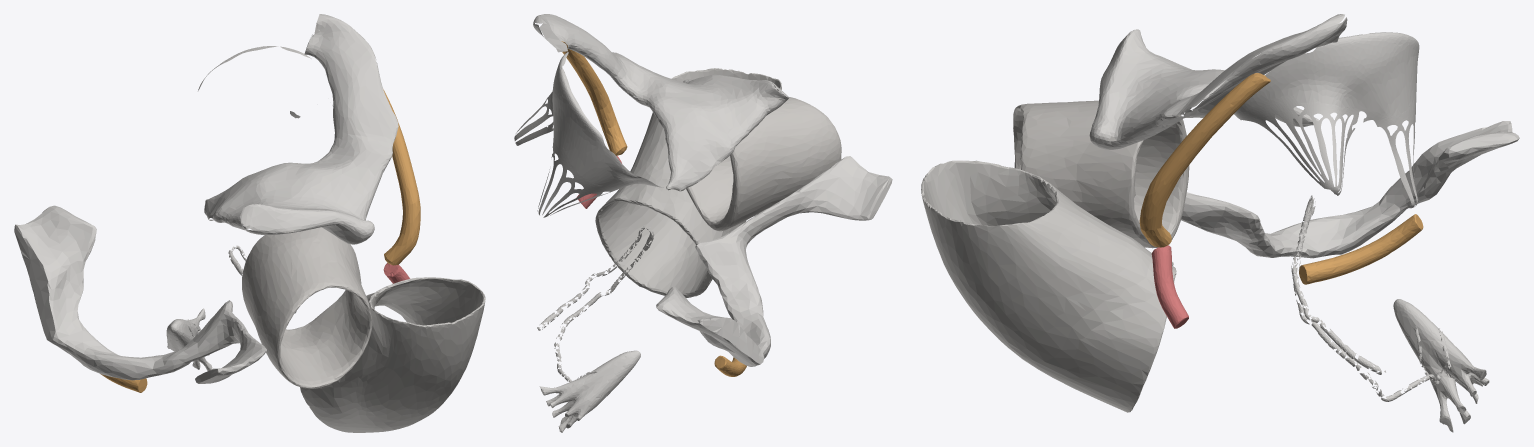
Rendered from heart_bp3d.glb.
3 renders of one model, left to right at view 1: azimuth 30°, elevation 25°; view 2: azimuth 150°, elevation 25°; view 3: azimuth 270°, elevation 25°, orthographic. The views are drawn at different scales.
Visible parts, largest first — view 1: myocardium, pulmonary_trunk, aorta, coronary_LCX; view 2: myocardium, pulmonary_trunk, aorta, coronary_LCX, coronary_RCA; view 3: myocardium, pulmonary_trunk, aorta, coronary_LCX, coronary_RCA, coronary_LAD.
Boxes of the visible parts, x1,y1,x2,y2 form: myocardium: [14, 14, 398, 383]; pulmonary_trunk: [300, 277, 485, 432]; aorta: [242, 227, 372, 388]; coronary_LCX: [383, 89, 420, 265]; myocardium: [514, 14, 892, 432]; pulmonary_trunk: [595, 68, 781, 298]; aorta: [686, 96, 841, 231]; coronary_LCX: [561, 41, 627, 155]; coronary_RCA: [714, 355, 746, 376]; myocardium: [1089, 14, 1519, 432]; pulmonary_trunk: [921, 160, 1176, 412]; aorta: [1013, 100, 1189, 248]; coronary_LCX: [1139, 73, 1270, 247]; coronary_RCA: [1299, 214, 1423, 284]; coronary_LAD: [1151, 245, 1188, 328].
Bounding box in the file's own units: 69.11 × 88.6 × 105.
